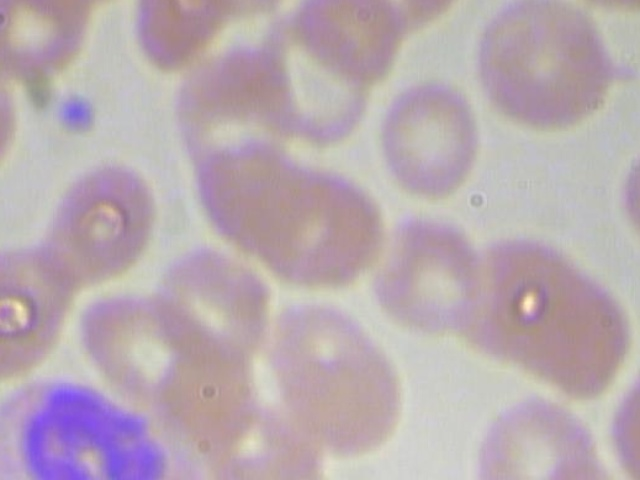Platelets: (54, 89, 103, 140)
RBC: (468, 0, 636, 144), (164, 51, 305, 184), (372, 201, 494, 344), (146, 237, 273, 363), (34, 157, 158, 282), (373, 77, 489, 205), (454, 386, 610, 480), (0, 234, 92, 382), (203, 452, 357, 480), (619, 135, 640, 264)
WBC: (0, 367, 211, 480)
